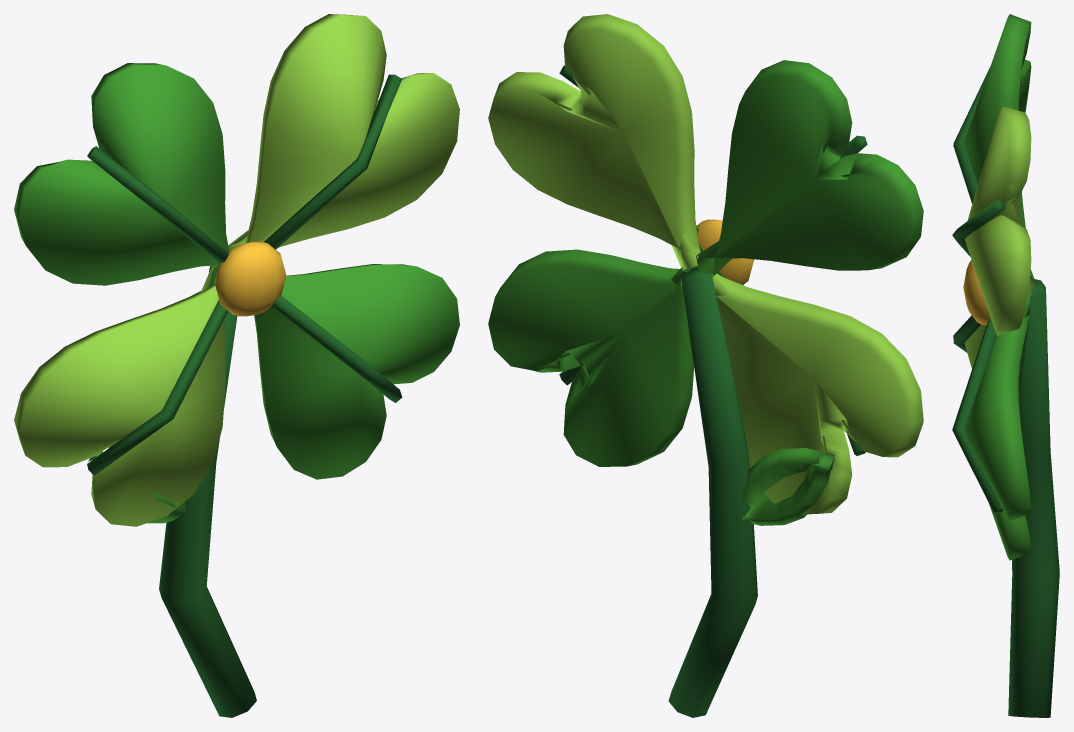
Rendered from clover.glb.
3 views of the same model, side by side, from view 1: azimuth 30°, elevation 25°; view 2: azimuth 150°, elevation 25°; view 3: azimuth 270°, elevation 25° (orthographic). The views are drawn at different scales.
Parts seen in each view (by area): view 1: clover_runtime; view 2: clover_runtime; view 3: clover_runtime.
Boxes of the visible parts, x1,y1,x2,y2 form: clover_runtime: [14, 14, 459, 717]; clover_runtime: [488, 14, 923, 717]; clover_runtime: [952, 14, 1059, 717].
Bounding box in the file's own units: 0.8789 × 1.3 × 0.1941.
Materials: 1 (1 with a texture image).
